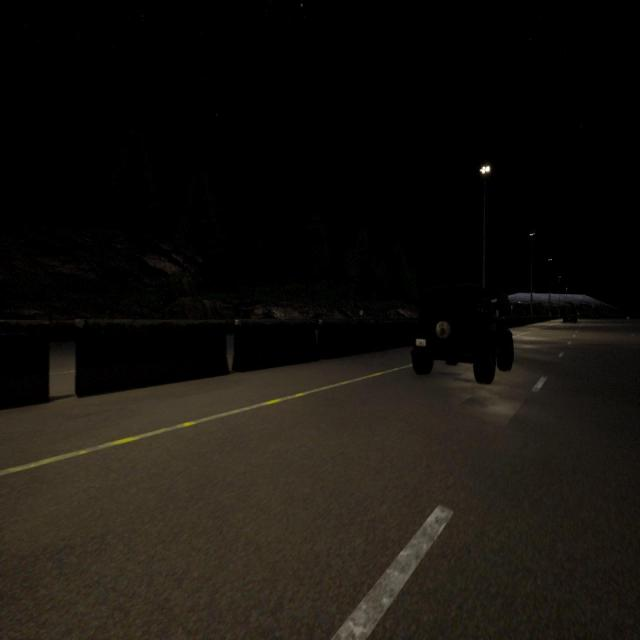Vehicle: (410, 285, 513, 384), (563, 310, 577, 324)
